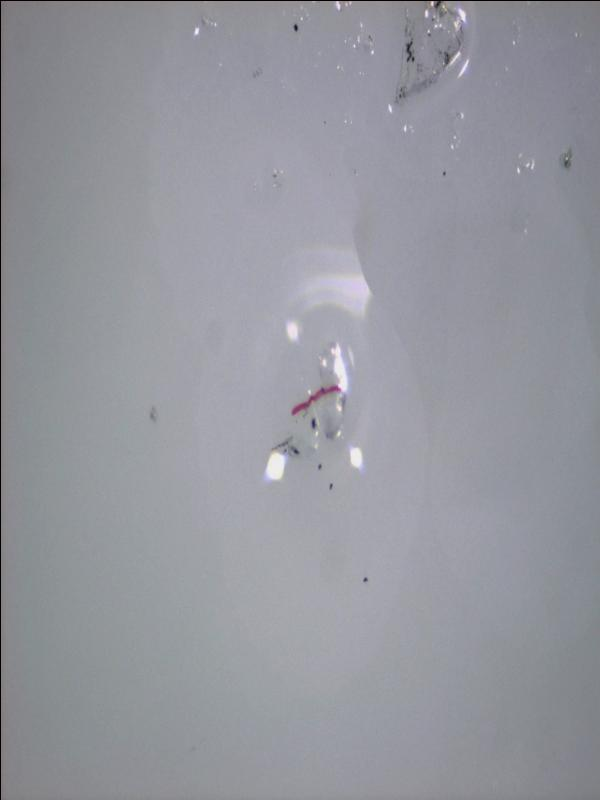microplastic: (264, 337, 363, 488)
